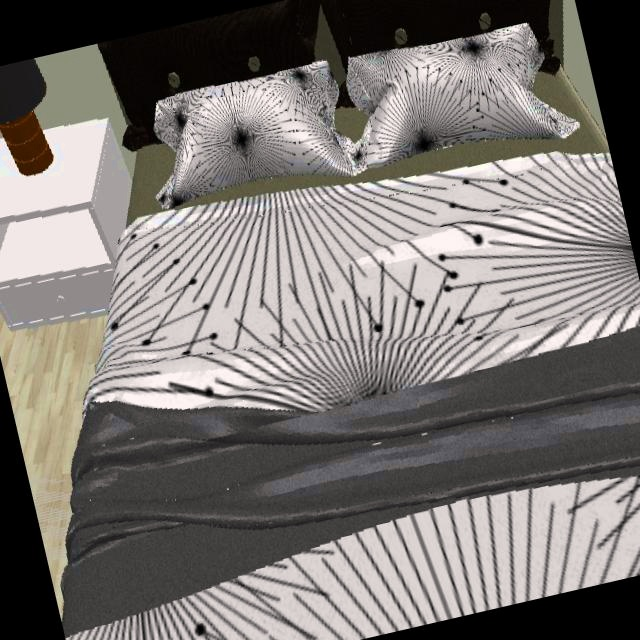bed: (59, 0, 640, 639)
lamp: (0, 57, 54, 176)
nighttable: (0, 116, 135, 329)
